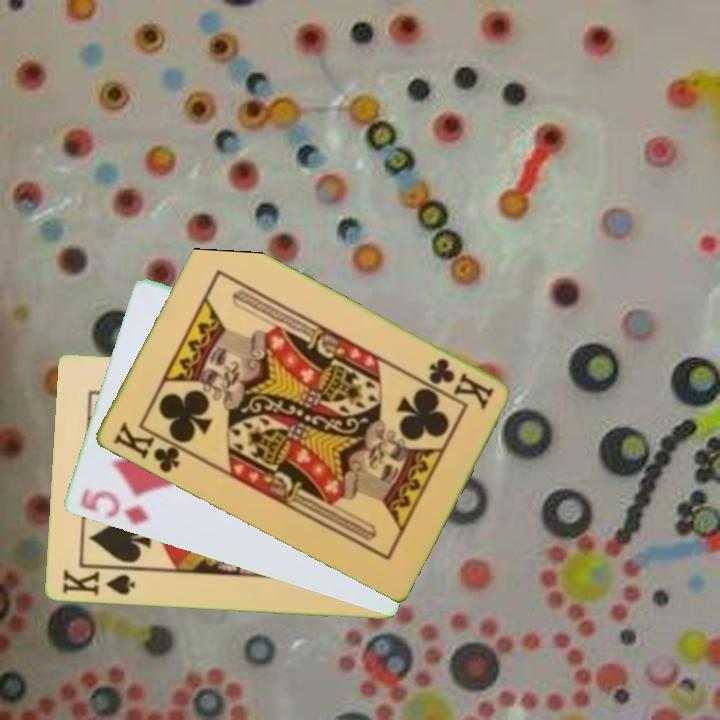5d: (76, 485, 151, 529)
Kc: (109, 418, 191, 476), (424, 354, 497, 412)
Ks: (58, 564, 139, 599)
